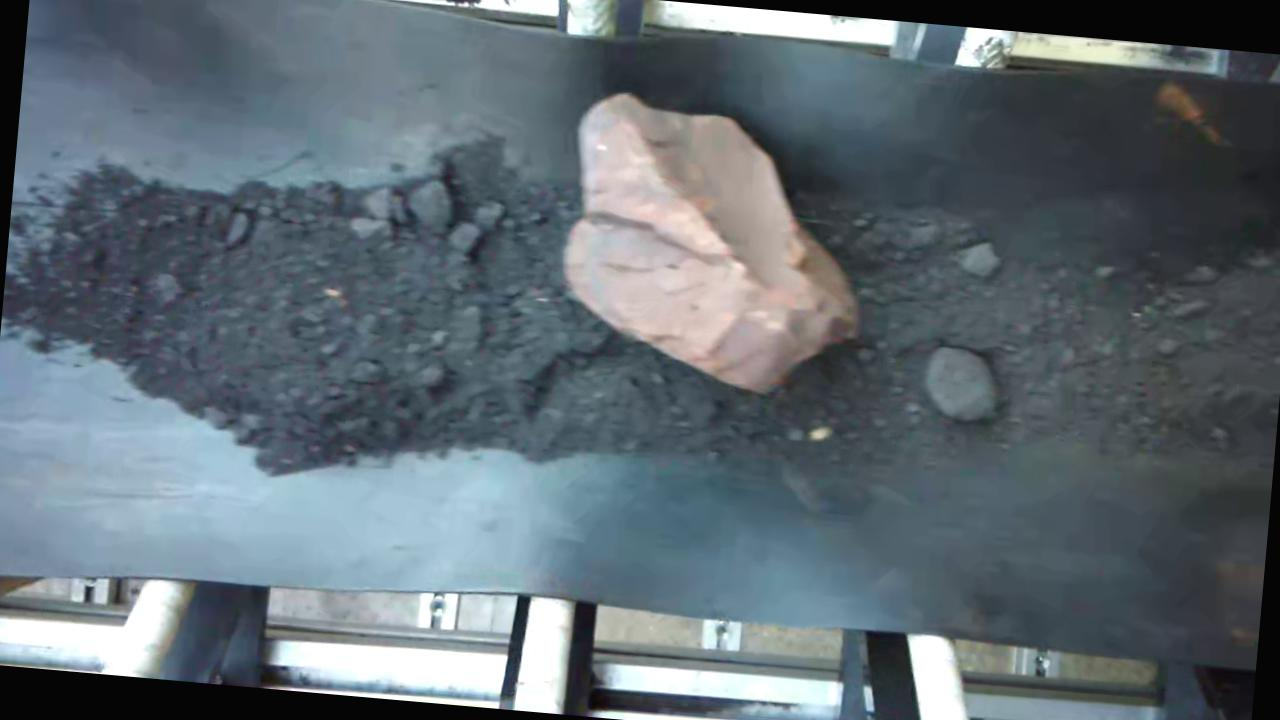conveyor: (0, 0, 1280, 658)
